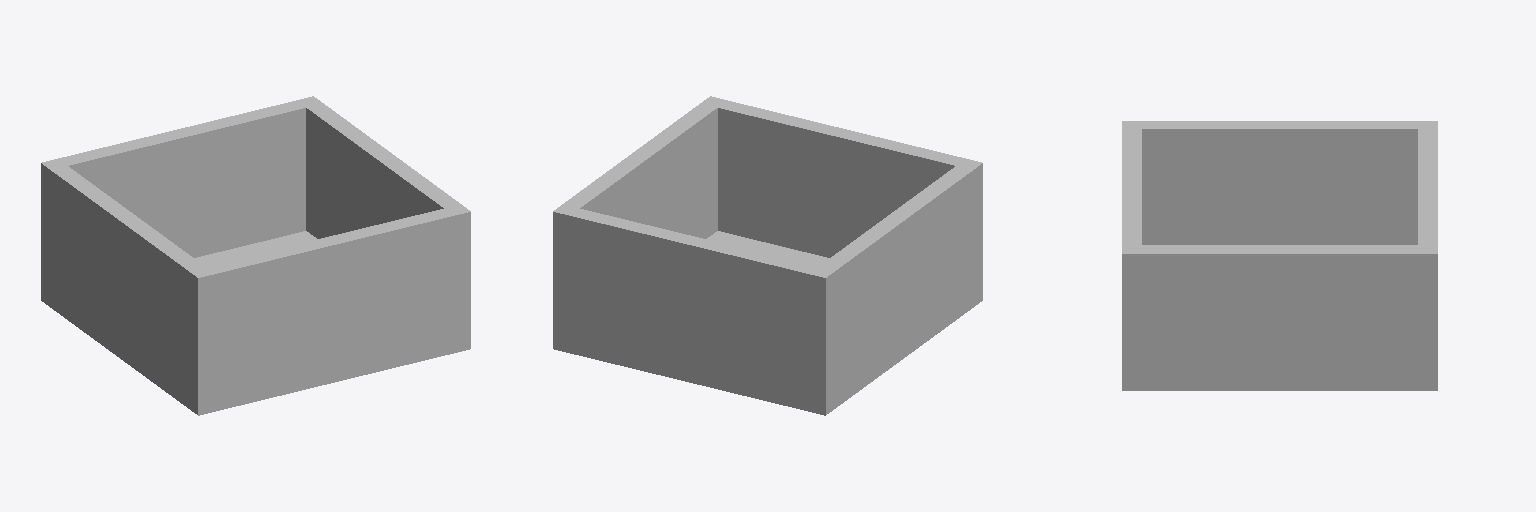
Rendered from house.obj.
3 renders of one model, left to right at view 1: azimuth 30°, elevation 25°; view 2: azimuth 150°, elevation 25°; view 3: azimuth 270°, elevation 25°, orthographic.
Parts seen in each view (by area): view 1: Cube; view 2: Cube; view 3: Cube.
Boxes of the visible parts, x1,y1,x2,y2 form: Cube: [41, 96, 470, 415]; Cube: [553, 96, 982, 415]; Cube: [1122, 121, 1437, 390].
Size of the model in its own units: 7.57 by 3.65 by 7.57.